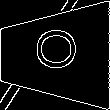O_W: (31, 34, 79, 76)
